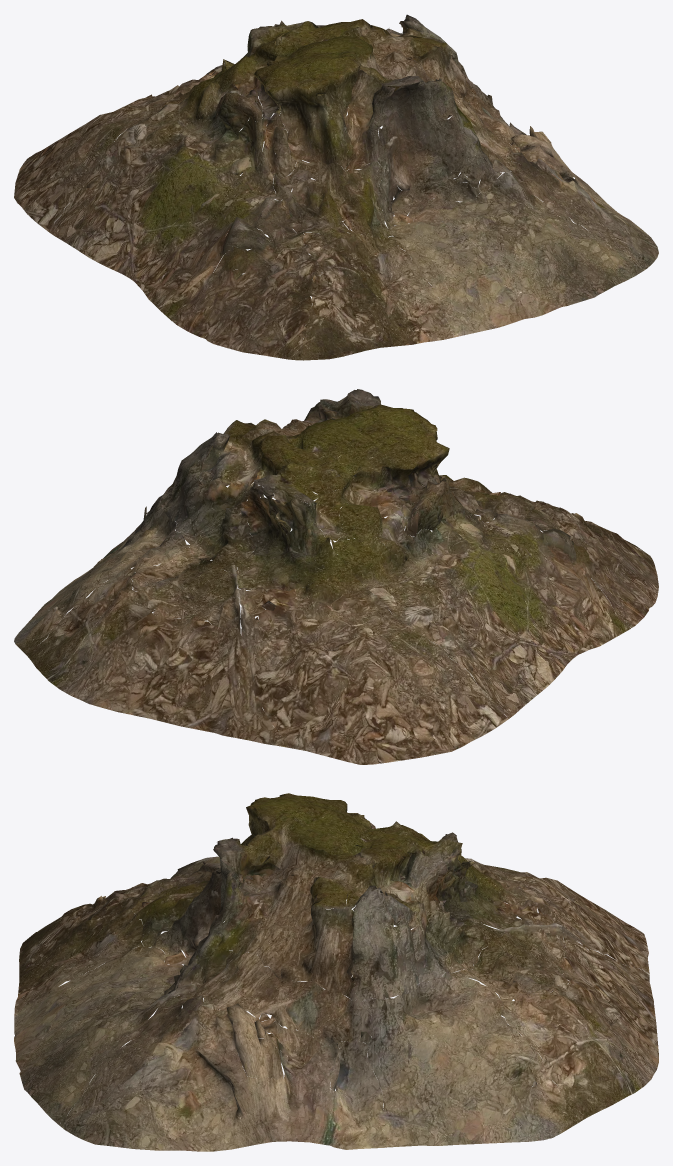
File: stump.glb
3 renders of one model, top to bottom at view 1: azimuth 30°, elevation 25°; view 2: azimuth 150°, elevation 25°; view 3: azimuth 270°, elevation 25°, orthographic. The views are drawn at different scales.
Visible parts, largest first — view 1: tree_stump_01; view 2: tree_stump_01; view 3: tree_stump_01.
Part boxes in pixels (x1,y1,x2,y2): tree_stump_01: [14, 14, 658, 360]; tree_stump_01: [14, 389, 658, 764]; tree_stump_01: [14, 793, 658, 1151].
Bounding box in the file's own units: 1.42 × 0.5741 × 1.59.
1 material, 1 textured.
